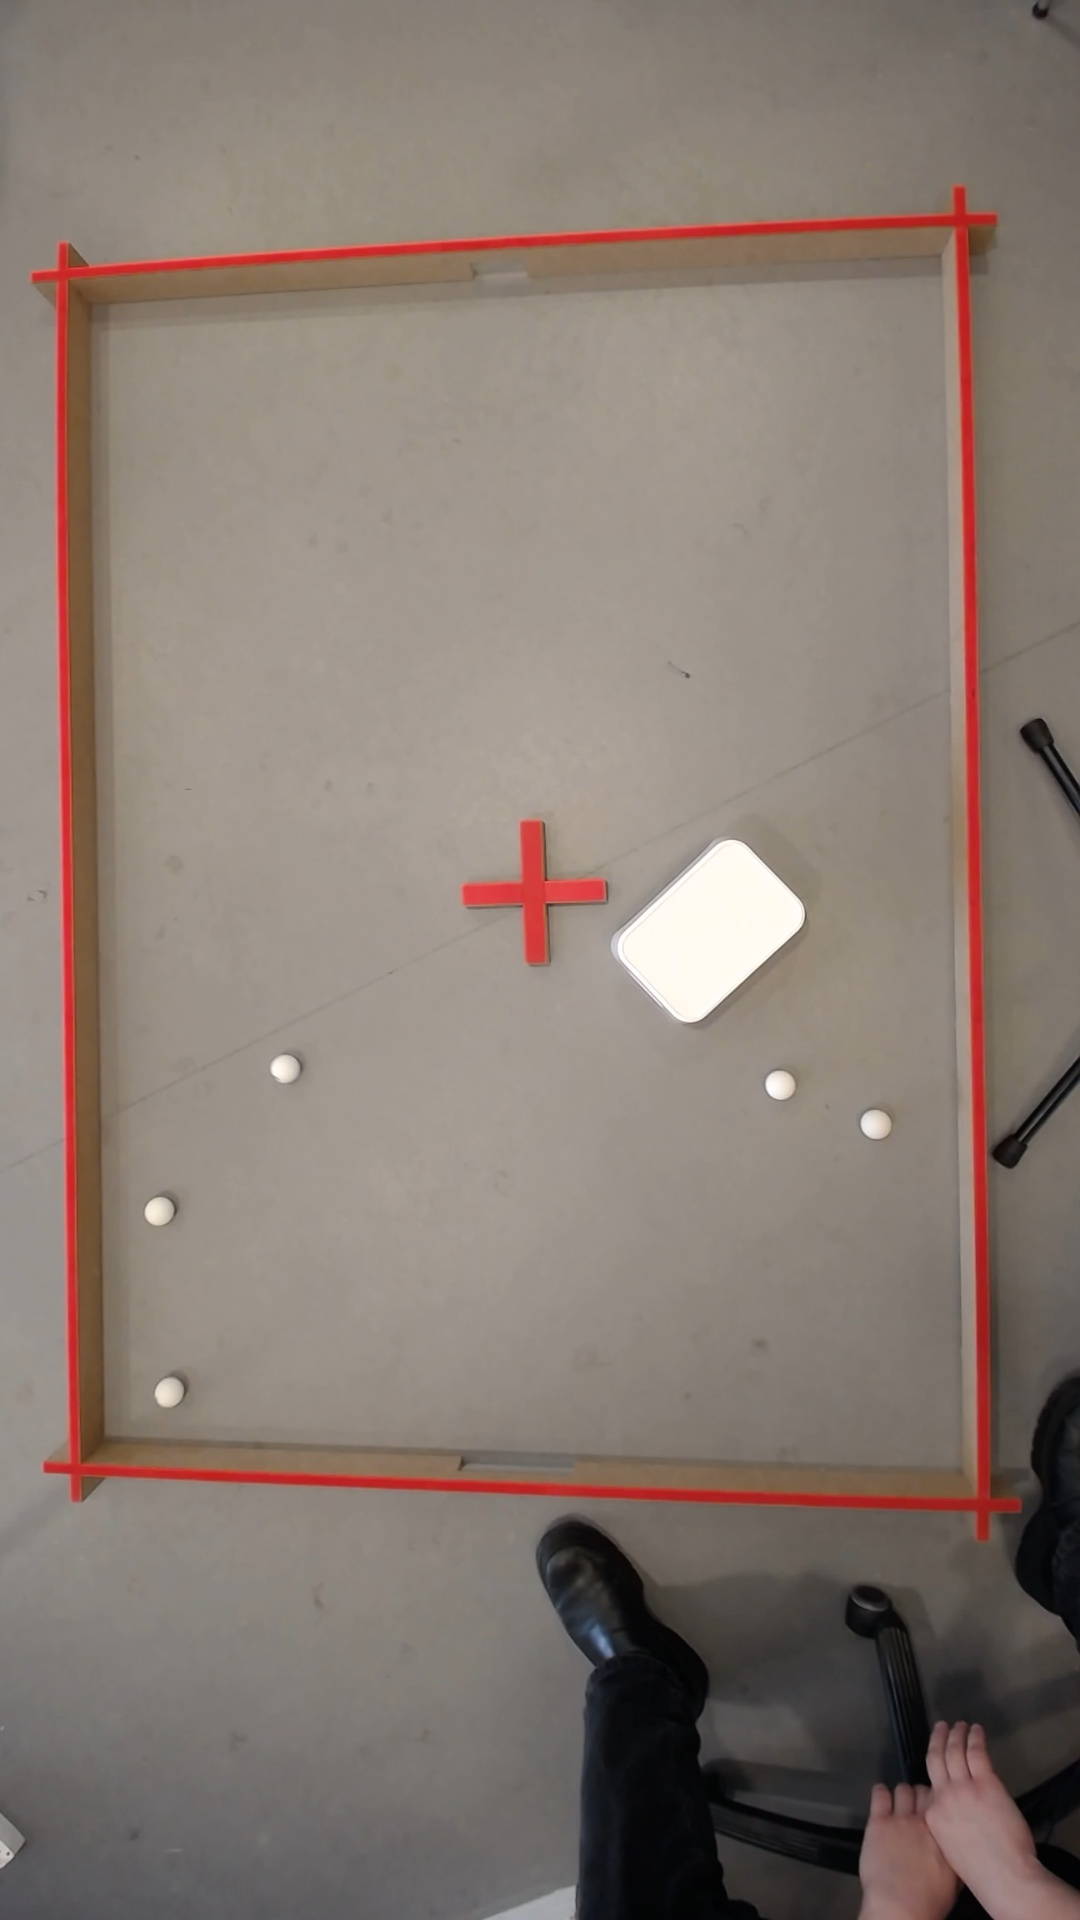balls: (605, 825, 814, 1033), (758, 1067, 794, 1102), (265, 1051, 298, 1084), (140, 1193, 171, 1226), (855, 1109, 886, 1139)
car: (156, 1381, 174, 1404)
